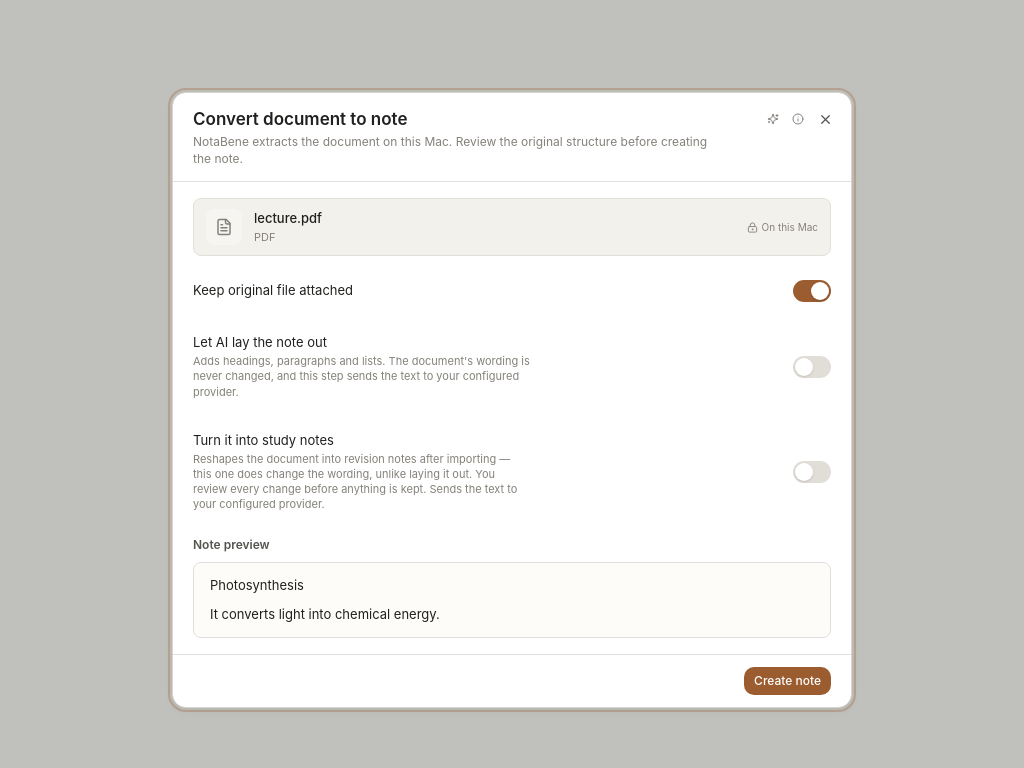
Scenario: ImportDocumentDialog reformatting › says nothing about failure when the student cancels the pass
Step 1. Click the switch named "Let AI lay the note out" → point(812, 367), box [793,356,831,378]
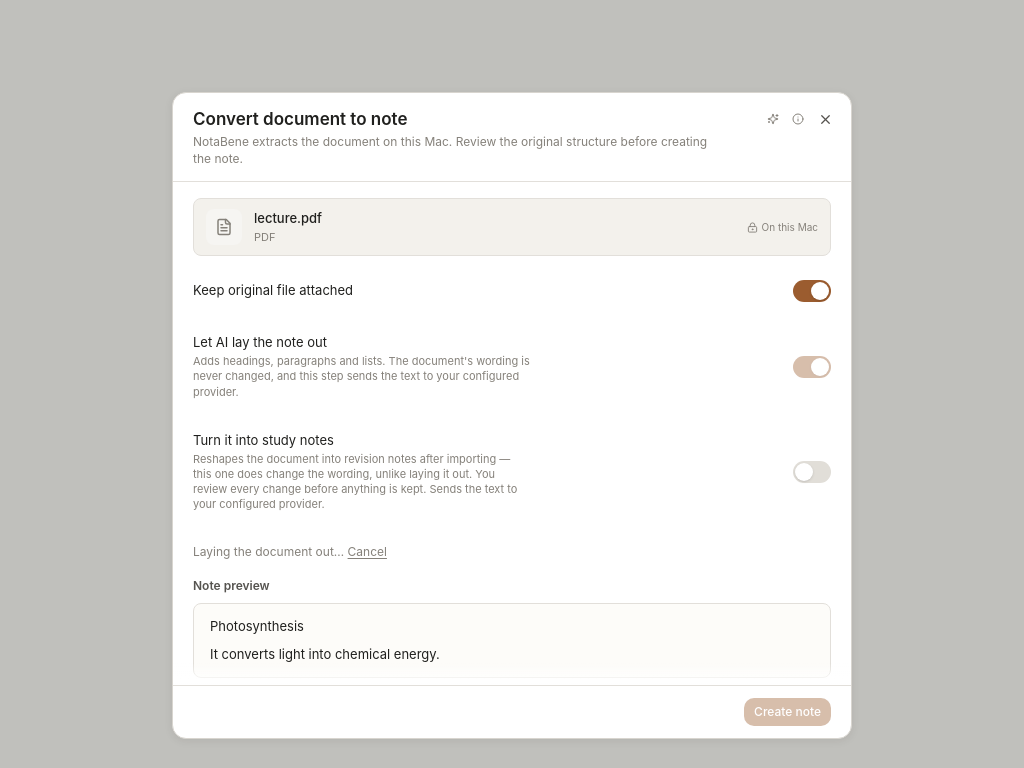
Expected: the text "Laying the document out…" is shown, [193,544,344,559]
Step 2. Click the button with aria-label "Stop laying the document out" → point(367, 552), box [348,544,387,560]
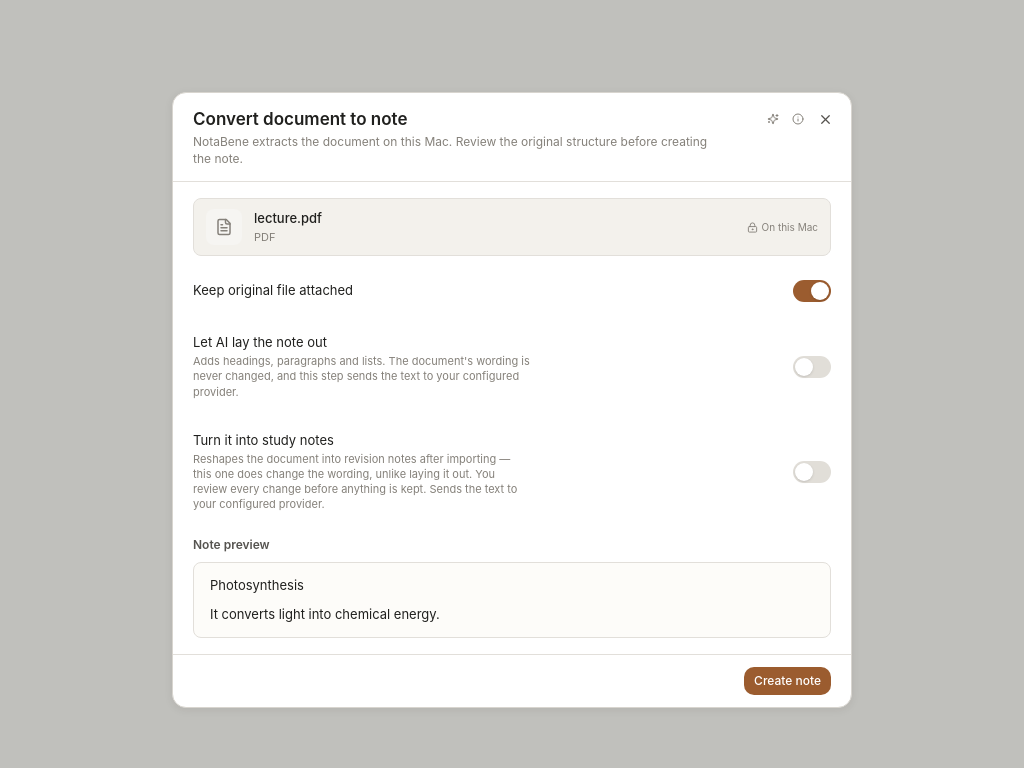
Expected: the text "Laying the document out…" is gone
